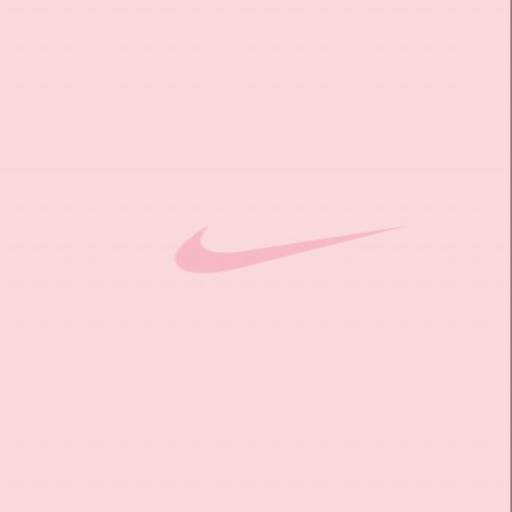Nike: (168, 212, 419, 280)
